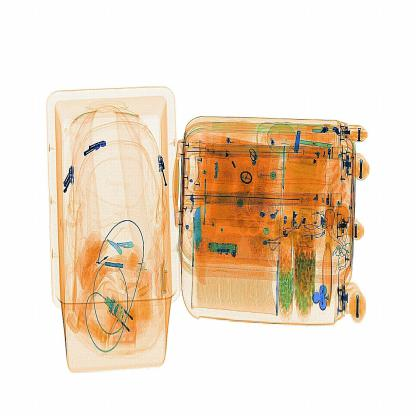wrench: (188, 207, 208, 286)
